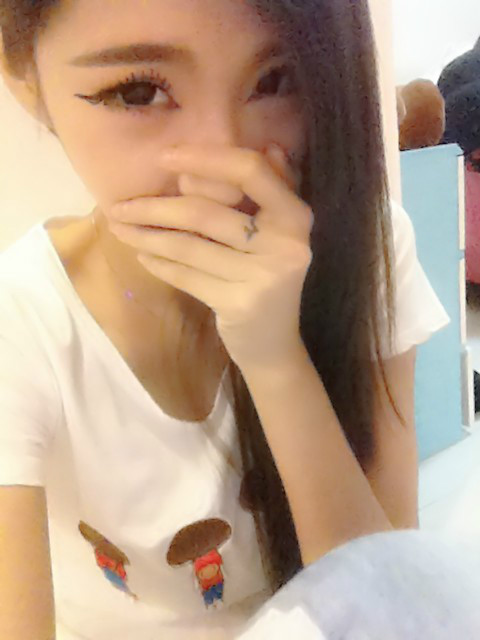face: (43, 1, 319, 285)
